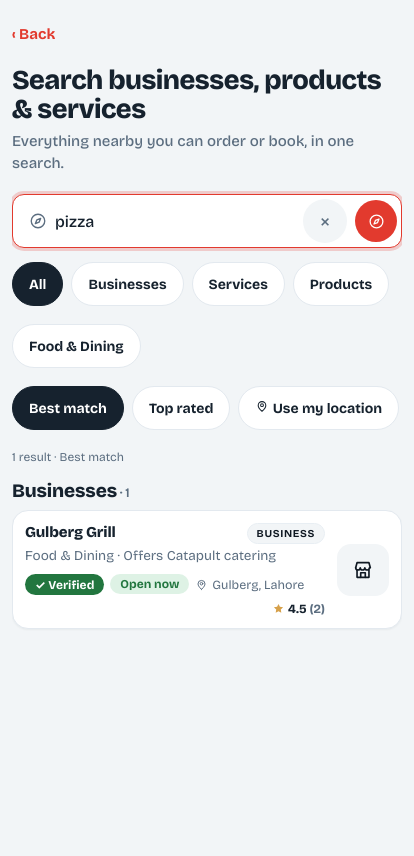
Test case: SearchScreen (Phase 14 unified search) › denied location keeps search usable and never sends coordinates
The image size is (414, 856).
Expected: the text "Gulberg Grill" is shown, [25, 523, 116, 541]
Click the button "Use my location": coordinates (319, 408) [238, 386, 399, 430]
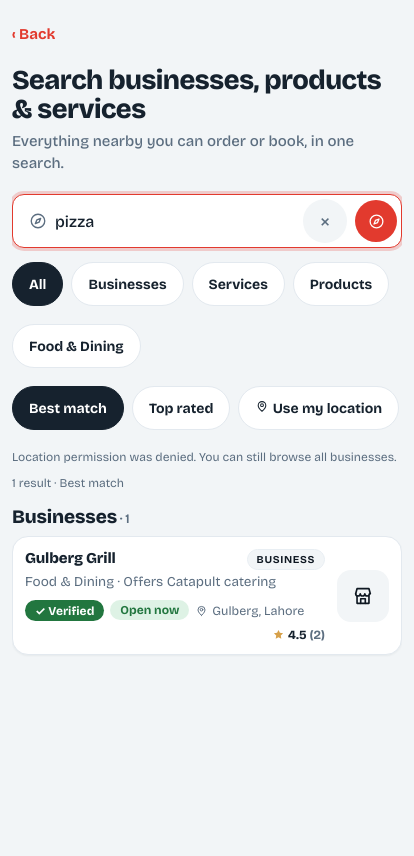
Result: the text "Location permission was denied. You can still browse all businesses." is shown at [12, 450, 402, 464]
